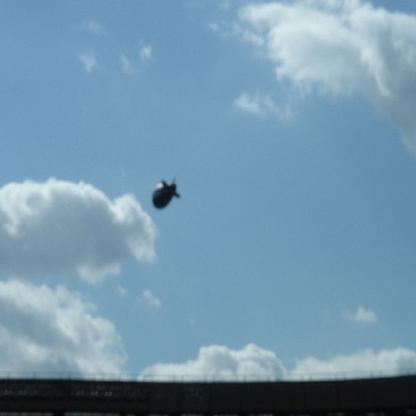Airship: (150, 177, 186, 213)
